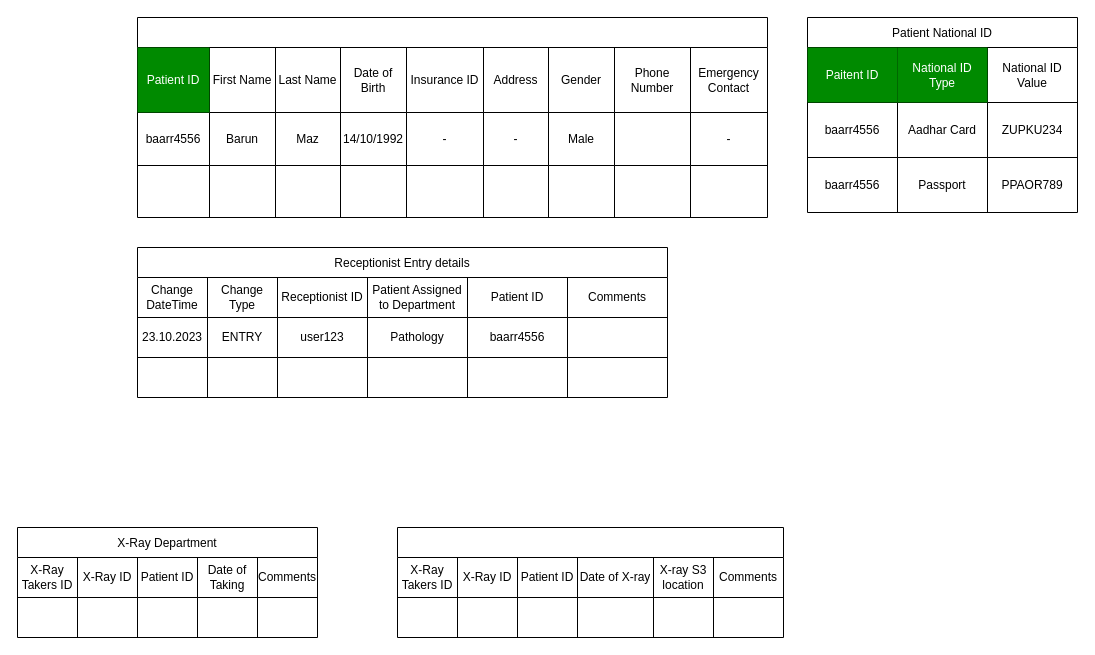
Image size: 1095x655. Some labels were removed from this diagram. Here are the shapes that lost their labels. From the top down, the box of each, then its label:
(136, 16, 768, 218): Patient Basic Info
(396, 526, 784, 638): Patient X-Rays
